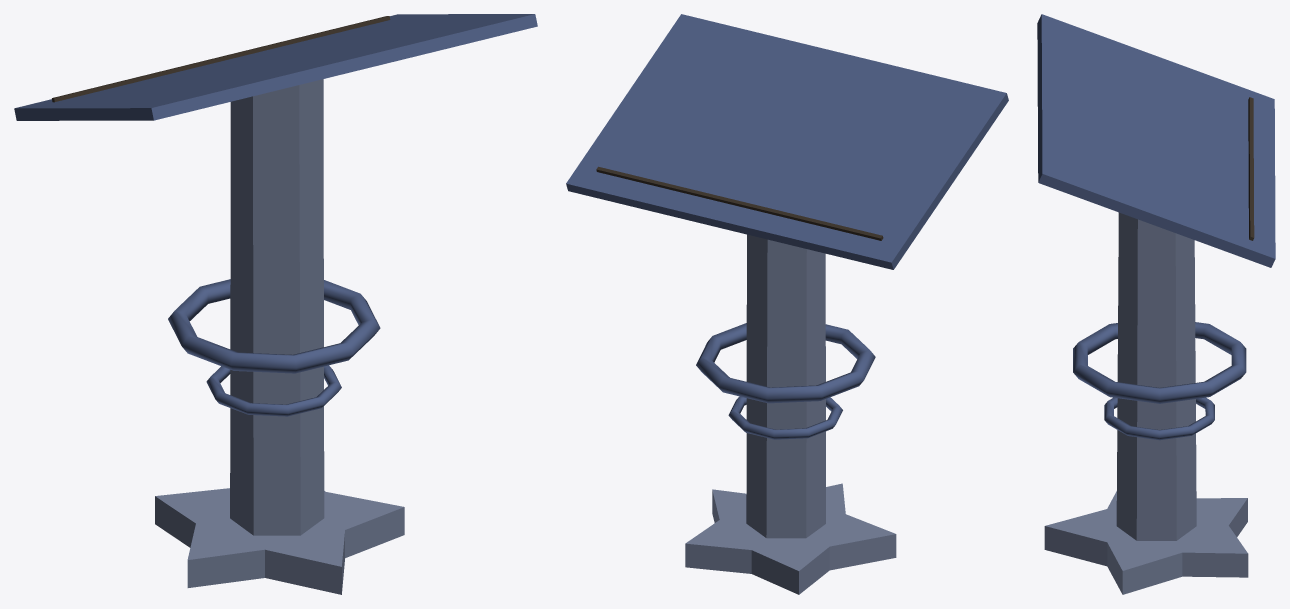
Rendered from Bookstand5.fbx.
3 renders of one model, left to right at view 1: azimuth 30°, elevation 25°; view 2: azimuth 150°, elevation 25°; view 3: azimuth 270°, elevation 25°, orthographic. The views are drawn at different scales.
Parts seen in each view (by area): view 1: Bookstand5; view 2: Bookstand5; view 3: Bookstand5.
Boxes of the visible parts, <box> form: Bookstand5: <box>14,14,537,594</box>; Bookstand5: <box>566,14,1008,594</box>; Bookstand5: <box>1037,14,1275,594</box>.
Bounding box in the file's own units: 828 × 520 × 1099.
